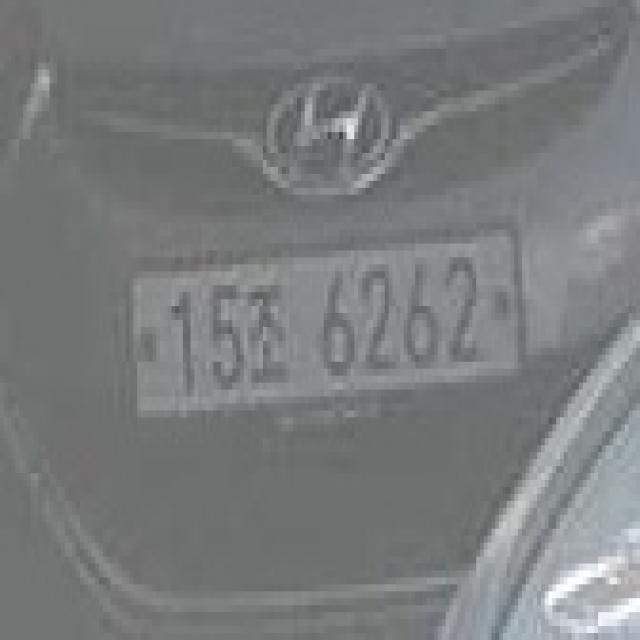1: (164, 278, 202, 418)
2: (438, 244, 488, 368), (358, 258, 400, 382)
5: (206, 278, 244, 404)
6: (312, 258, 358, 390), (400, 244, 442, 382)
jo: (248, 278, 293, 390)
license_plate: (114, 202, 541, 459)
